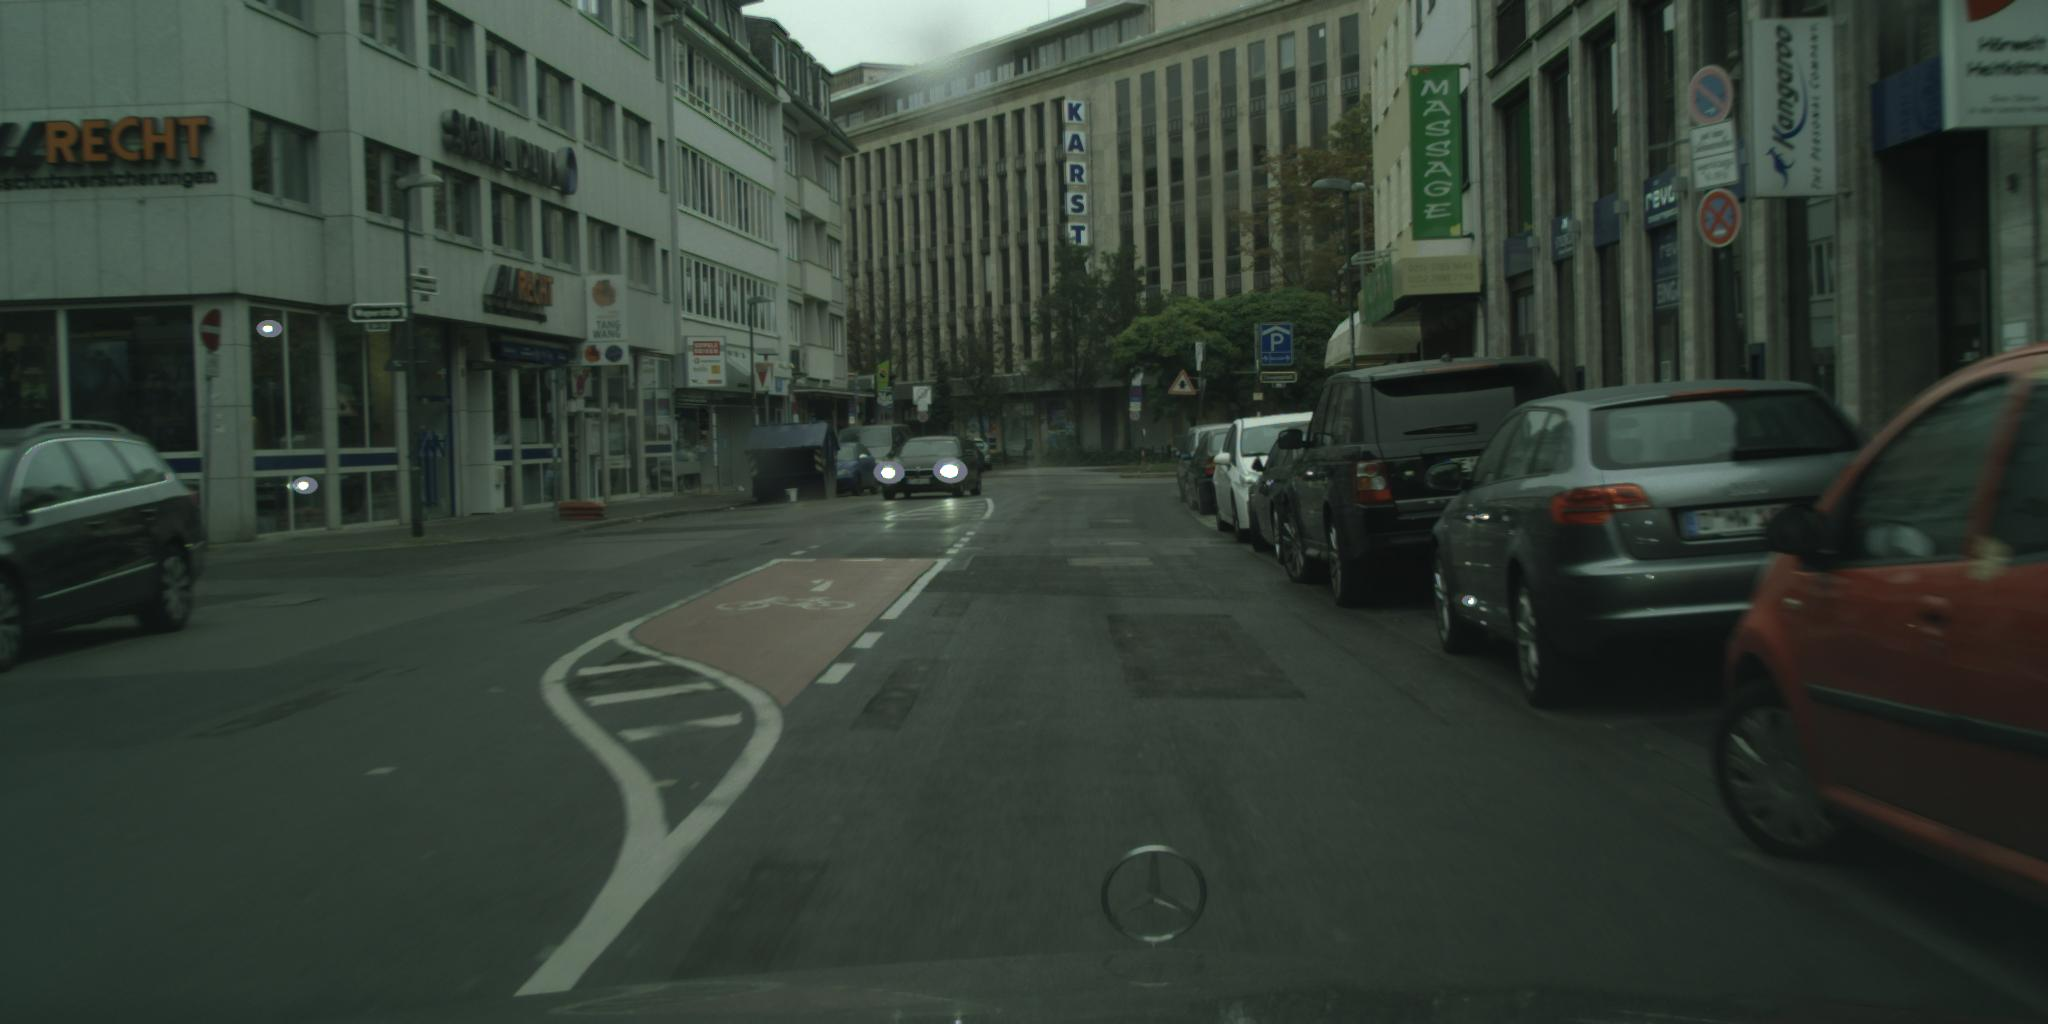car: (1710, 342, 2048, 913), (1422, 380, 1886, 712), (1277, 354, 1580, 611), (1, 418, 206, 674), (1213, 411, 1323, 543), (1249, 421, 1320, 564), (880, 434, 986, 500), (1179, 426, 1249, 515), (1170, 424, 1240, 505), (836, 423, 917, 485), (825, 441, 883, 498), (959, 439, 993, 472)
